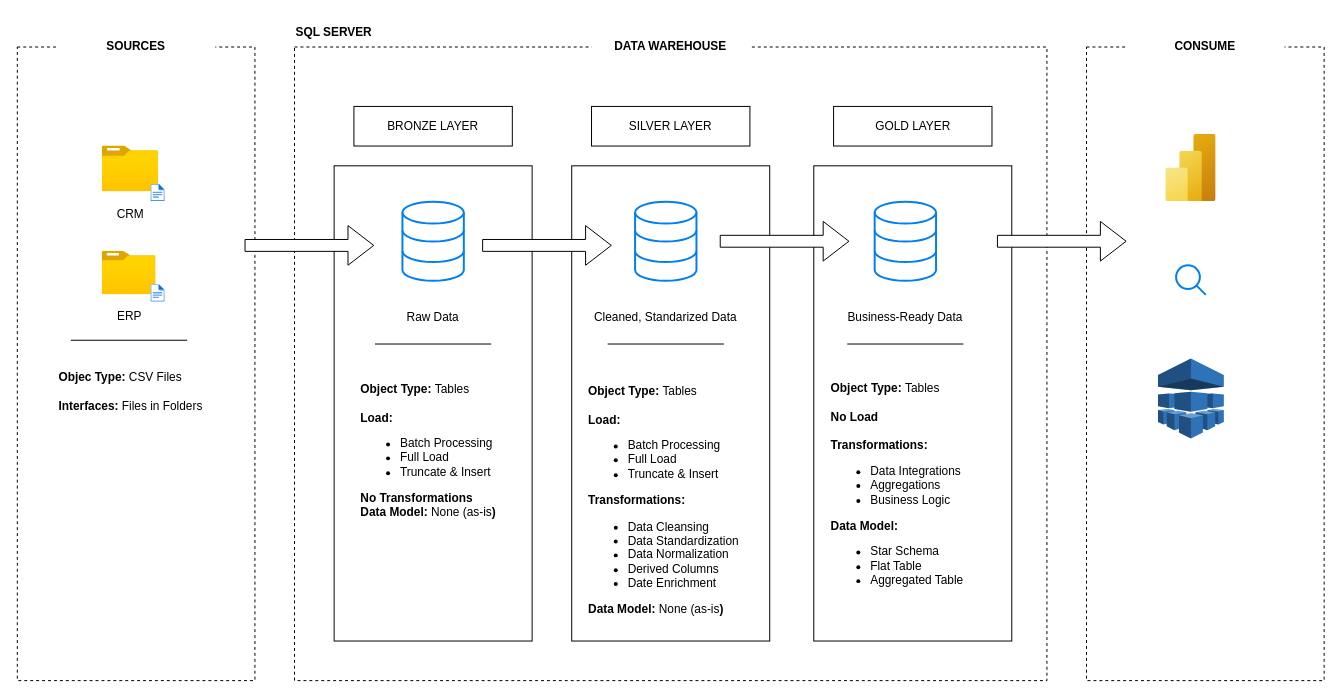
Some shapes in this 1341 by 698 pixel diagram are drawn without their labels. The centre of each missing label's shape, as x and y in pixels:
"Ad-Hoc SQL Queries" belongs at [1190,279].
"BI & Reporting" belongs at [1190,167].
"Machine Learning" belongs at [1190,397].
